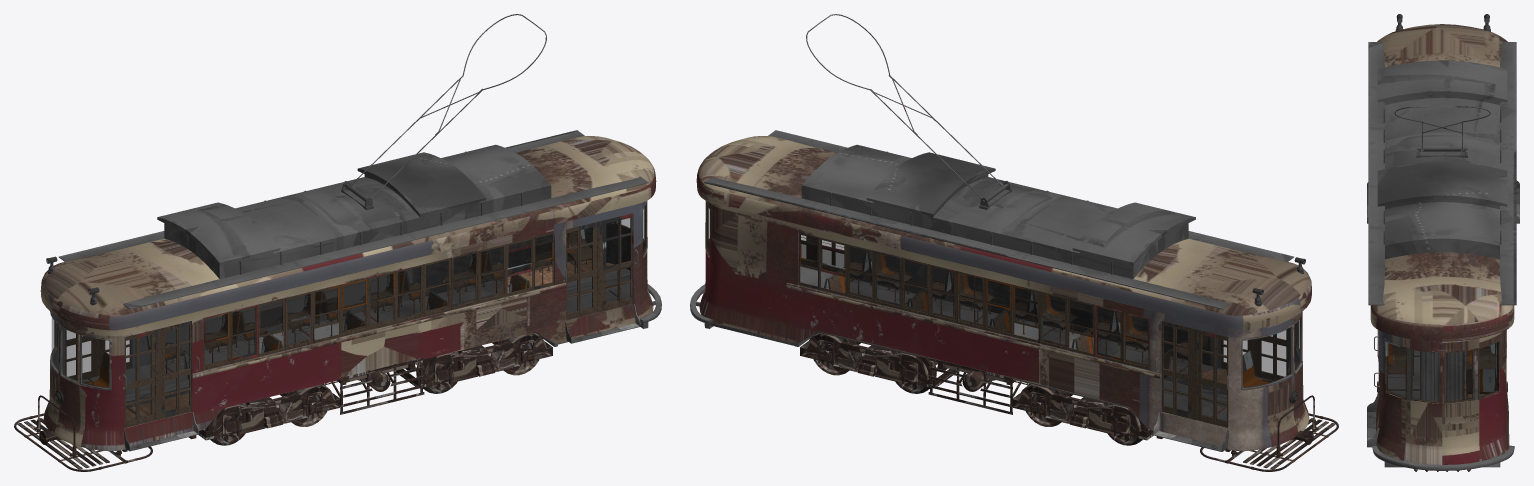
The model's file is HK_Tram.glb.
3 views of the same model, side by side, from view 1: azimuth 30°, elevation 25°; view 2: azimuth 150°, elevation 25°; view 3: azimuth 270°, elevation 25° (orthographic). The views are drawn at different scales.
Visible parts, largest first — view 1: Old_tram; view 2: Old_tram; view 3: Old_tram.
Boxes of the visible parts, box(x1,y1,x2,y2) form: Old_tram: box(14, 14, 661, 471); Old_tram: box(690, 14, 1338, 471); Old_tram: box(1367, 14, 1519, 471).
Bounding box in the file's own units: 261 × 133 × 54.75.
Materials: 6 (4 with a texture image).
